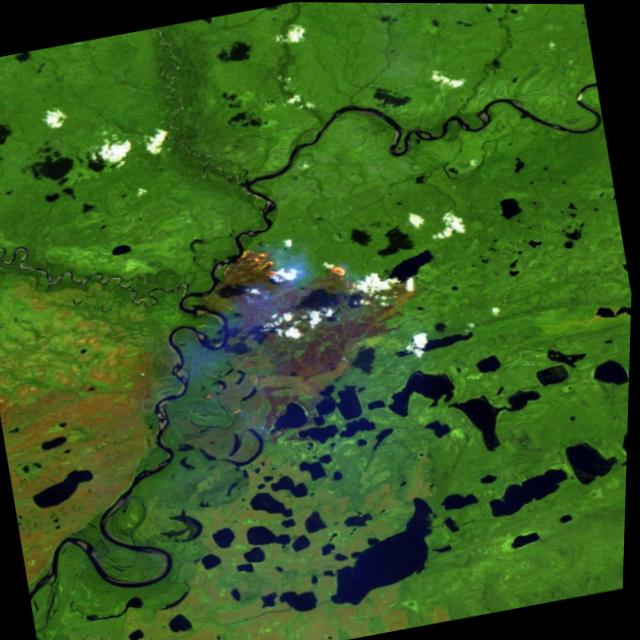fire: (226, 222, 373, 318)
